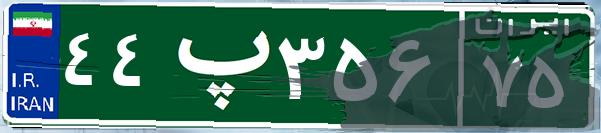3: (273, 28, 330, 110)
4: (57, 26, 110, 107), (110, 28, 158, 105)
5: (330, 28, 385, 110), (525, 38, 570, 115)
6: (385, 28, 445, 110)
7: (475, 38, 525, 113)
پ: (158, 15, 273, 115)
